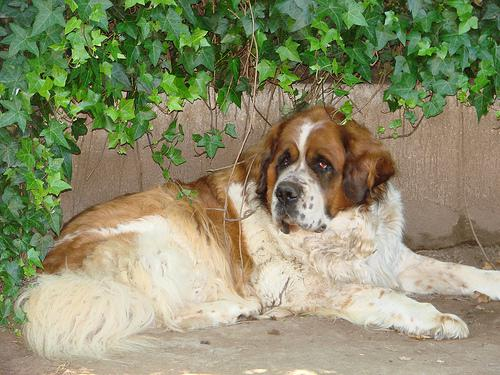dog-saint_bernard: (250, 105, 393, 233)
